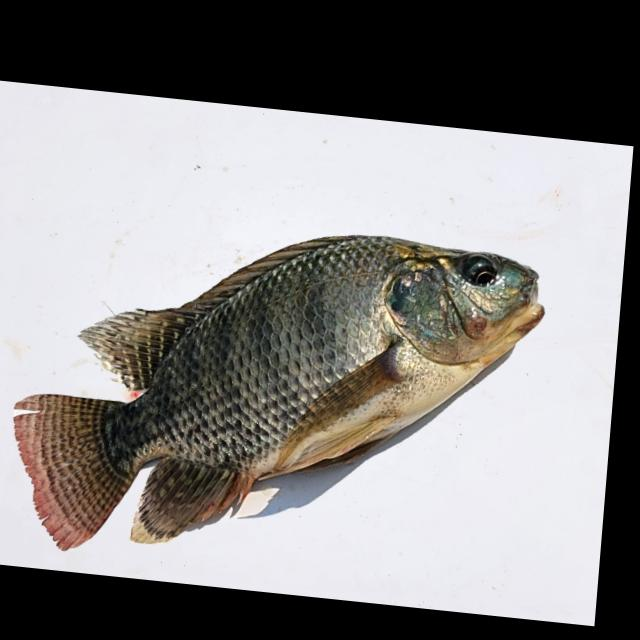Tilapia: (0, 198, 549, 598)
